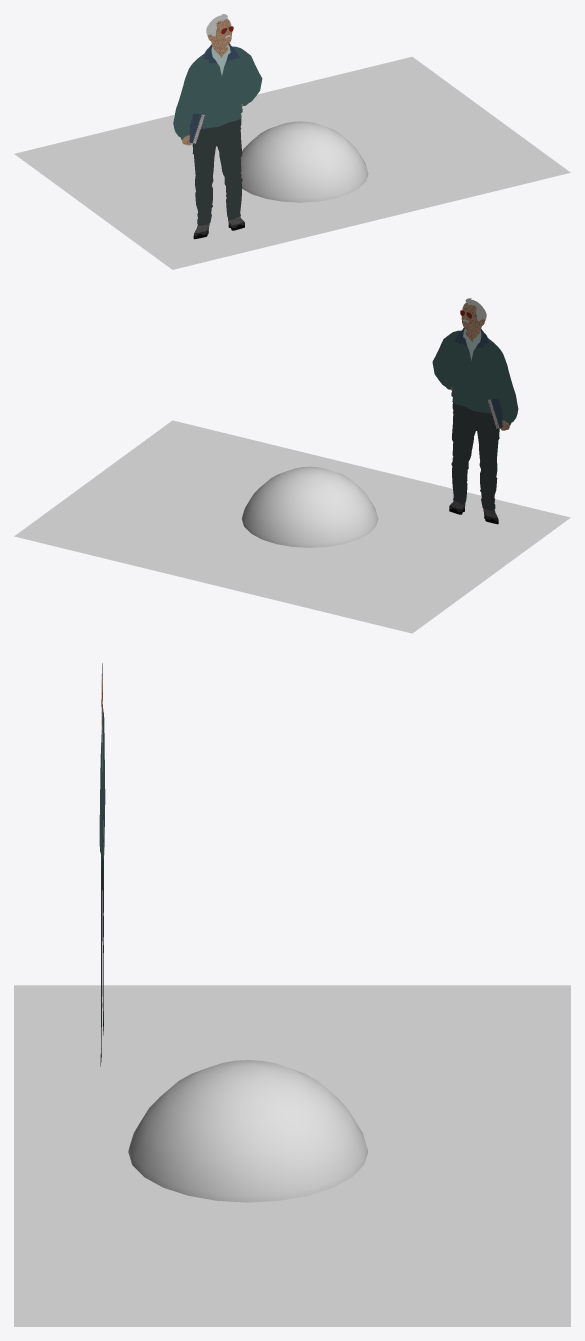
The picture shows the model from 3 angles, top to bottom: view 1: azimuth 30°, elevation 25°; view 2: azimuth 150°, elevation 25°; view 3: azimuth 270°, elevation 25°; orthographic projection. The views are drawn at different scales.
Parts seen in each view (by area): view 1: Component_1 (×2), Steve (×3); view 2: Component_1 (×2), Steve (×3); view 3: Component_1 (×2).
Part boxes in pixels (x1,y1,x2,y2): Component_1 (×2): [14, 56, 570, 269]; Steve (×3): [173, 19, 262, 225]; Component_1 (×2): [14, 420, 570, 633]; Steve (×3): [432, 303, 518, 510]; Component_1 (×2): [14, 985, 570, 1326].
Bounding box in the file's own units: 127 × 87.4 × 66.71.
